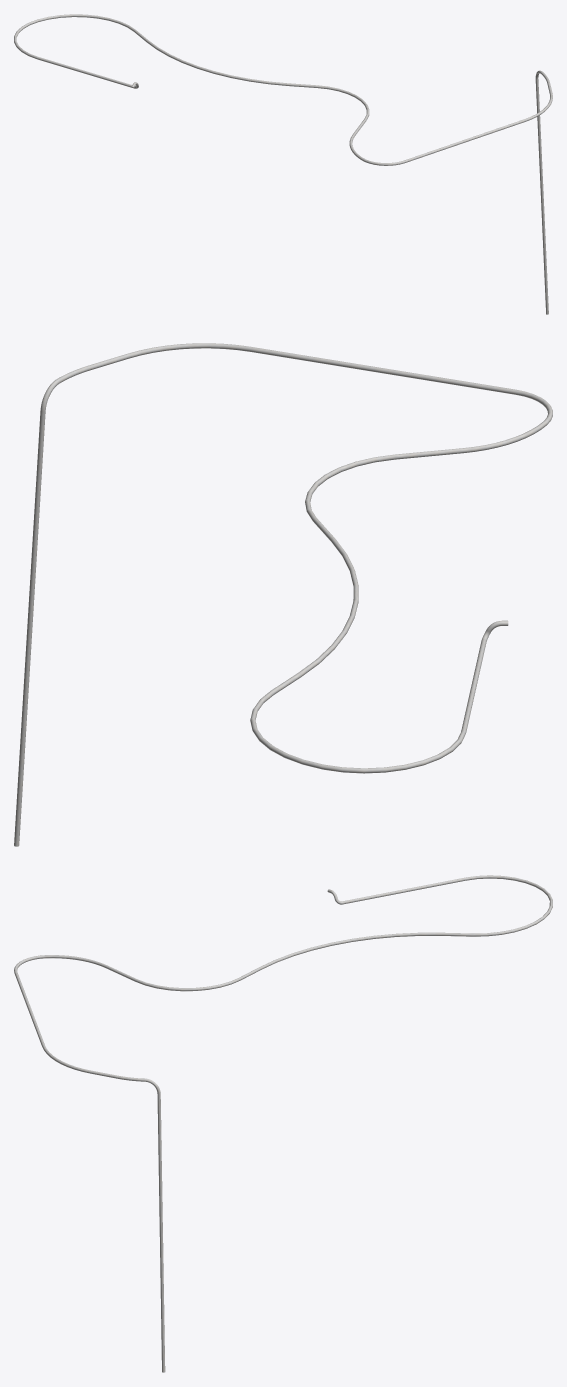
The model's file is Pipe__26.fbx.
3 views of the same model, one above another, from view 1: azimuth 30°, elevation 25°; view 2: azimuth 150°, elevation 25°; view 3: azimuth 270°, elevation 25° (orthographic). The views are drawn at different scales.
Parts seen in each view (by area): view 1: Pipe_Dark; view 2: Pipe_Dark; view 3: Pipe_Dark.
Part boxes in pixels (box(x1,y1,x2,y2)): Pipe_Dark: box(14, 14, 552, 314); Pipe_Dark: box(14, 343, 552, 846); Pipe_Dark: box(14, 875, 552, 1372).
Size of the model in its own units: 12.37 by 8 by 13.28.
Materials: 1 (1 with a texture image).
